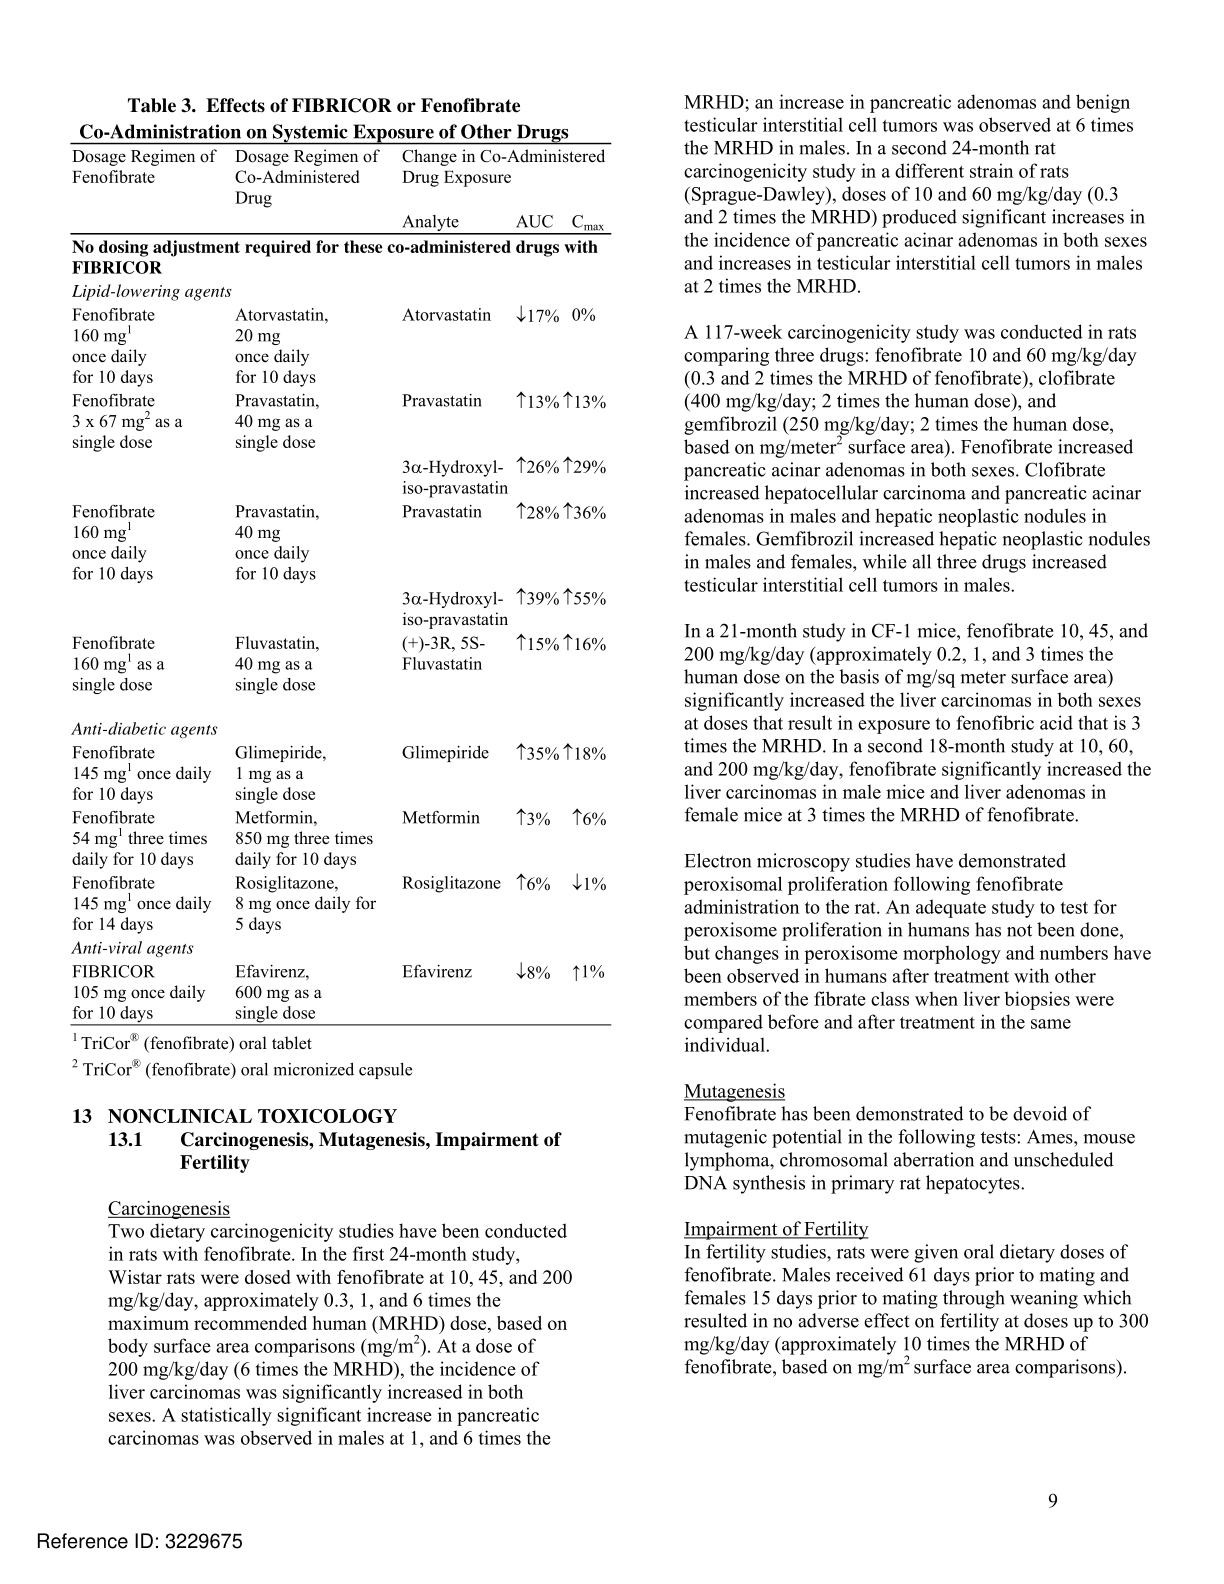partial_lined_merged_cells: (69, 114, 615, 1029)
